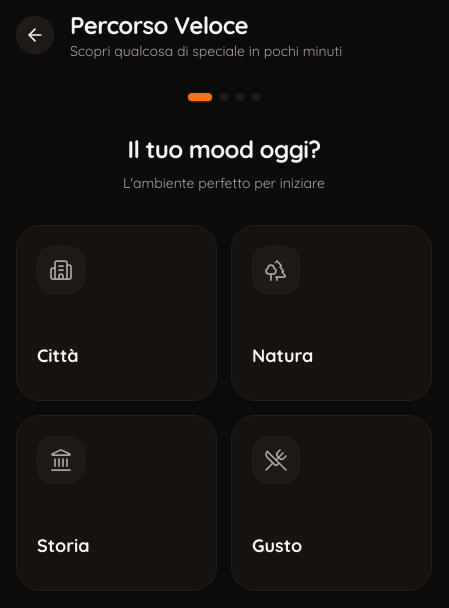
QuickPath — a quest'ora quasi tutto chiuso › mostra il messaggio dichiarato, non "Non basta per un tour"
Click the button "Città": [116, 313] box left=16, top=225, right=217, bottom=401
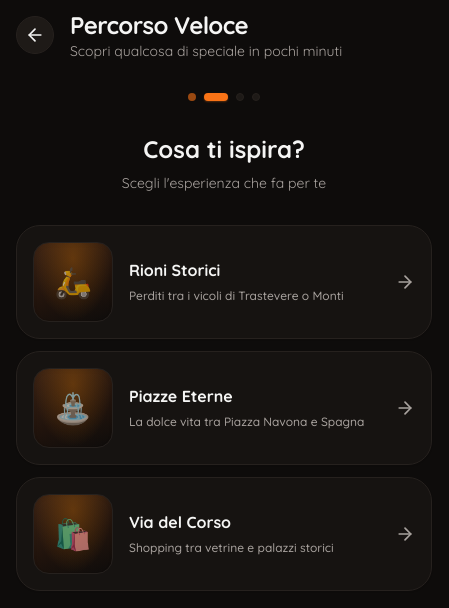
Click the button "Rioni Storici": [73, 282] box left=16, top=225, right=432, bottom=339
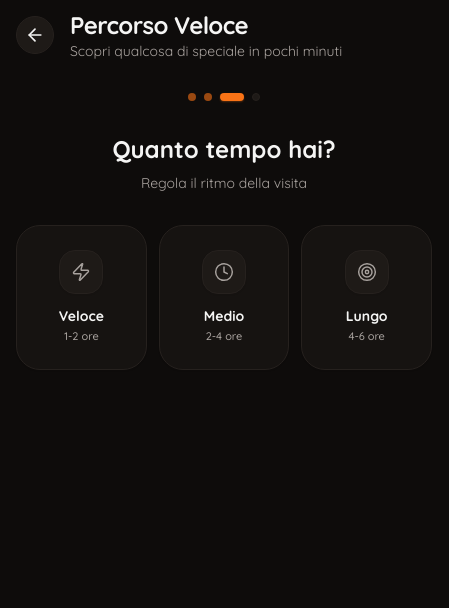
Click the button "Veloce 1-2 ore": [81, 297] box left=16, top=225, right=147, bottom=370
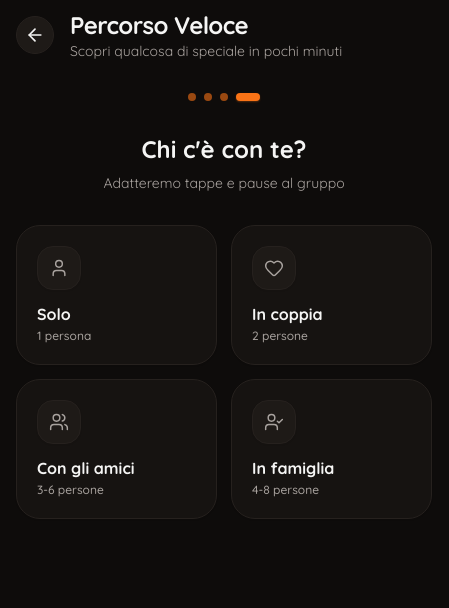
Click the button "Solo 1 persona": [116, 295] box left=16, top=225, right=217, bottom=365
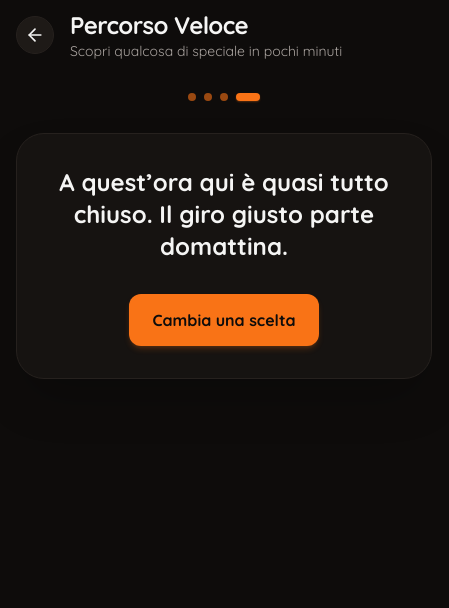
Result: the heading "A quest’ora qui è quasi tutto chiuso. Il giro giusto parte domattina." is shown at left=49, top=166, right=399, bottom=262
